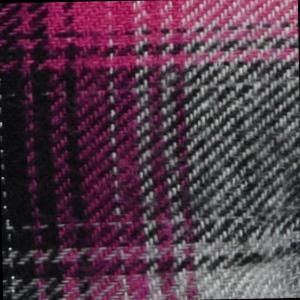Damage: (231, 139, 300, 299)
